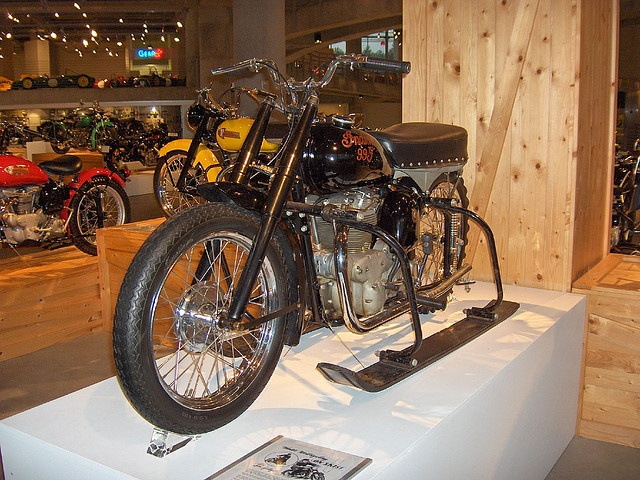non-vehicle: (111, 53, 518, 435), (153, 82, 373, 217), (0, 124, 130, 255), (44, 98, 118, 154), (108, 119, 170, 166), (0, 110, 43, 149)
